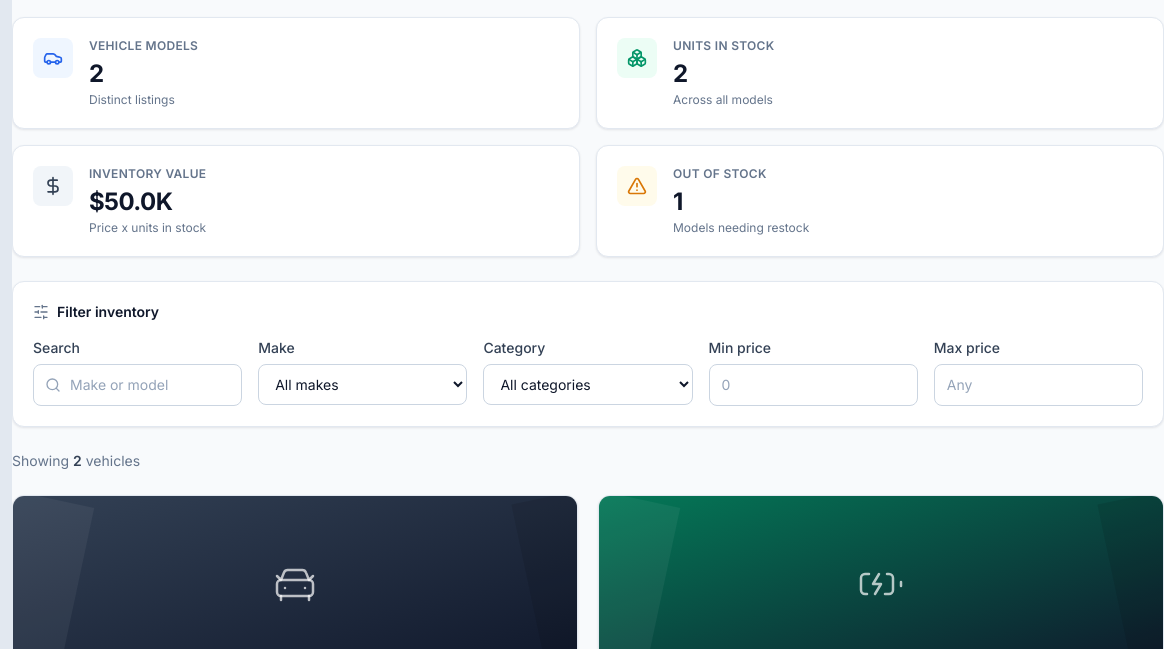
Test: DashboardPage › offers to clear filters when nothing matches
Type "ferrari" into the search field labelled "Search".
click(138, 385); type("ferrari")  # box [33,364,242,406]
(page scrolled)
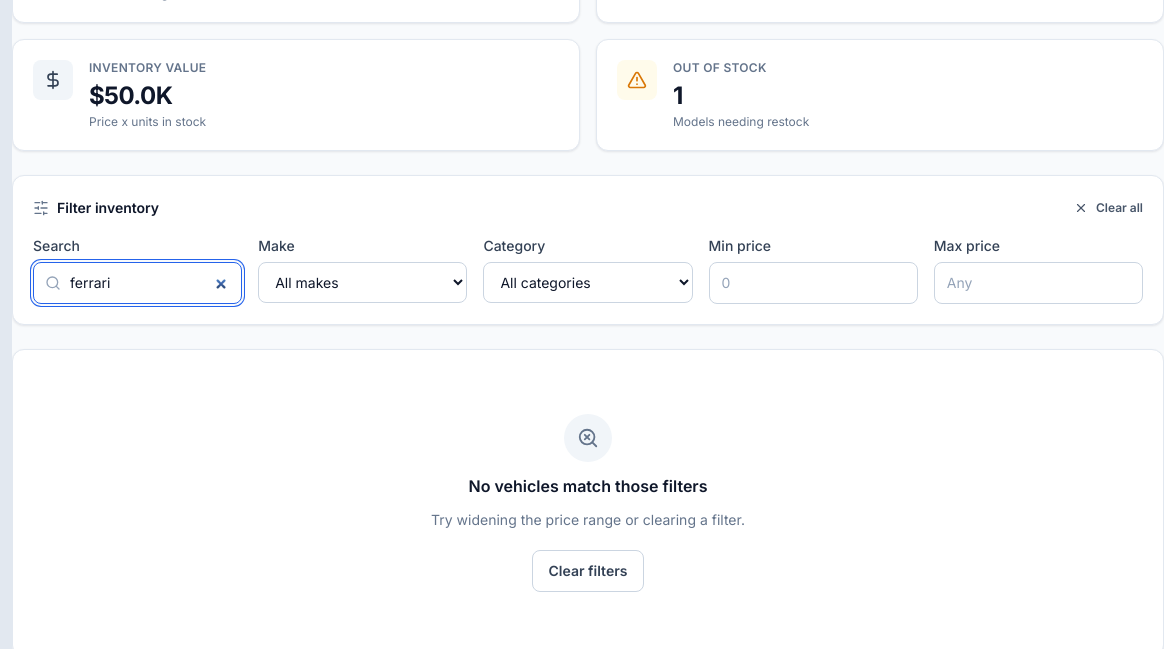
Expected: the heading "No vehicles match those filters" is shown, [468,474,708,498]
Expected: the button "Clear filters" is shown, [532,550,644,592]
